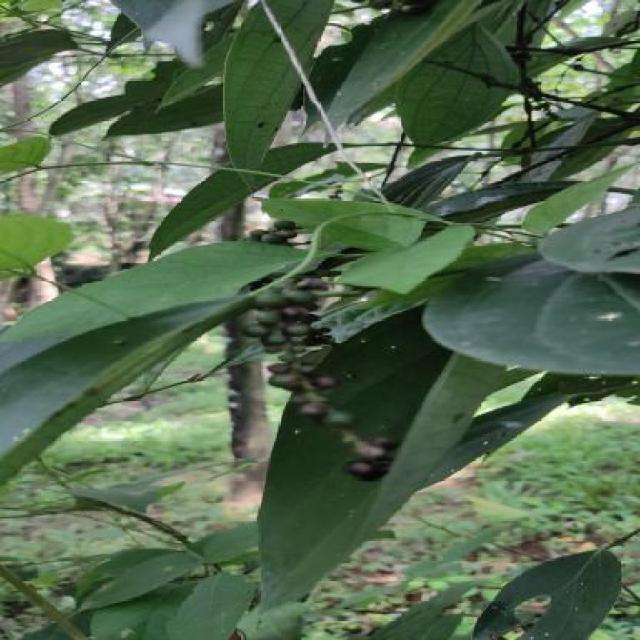UNRIPE: (255, 286, 330, 389), (250, 223, 301, 243)
